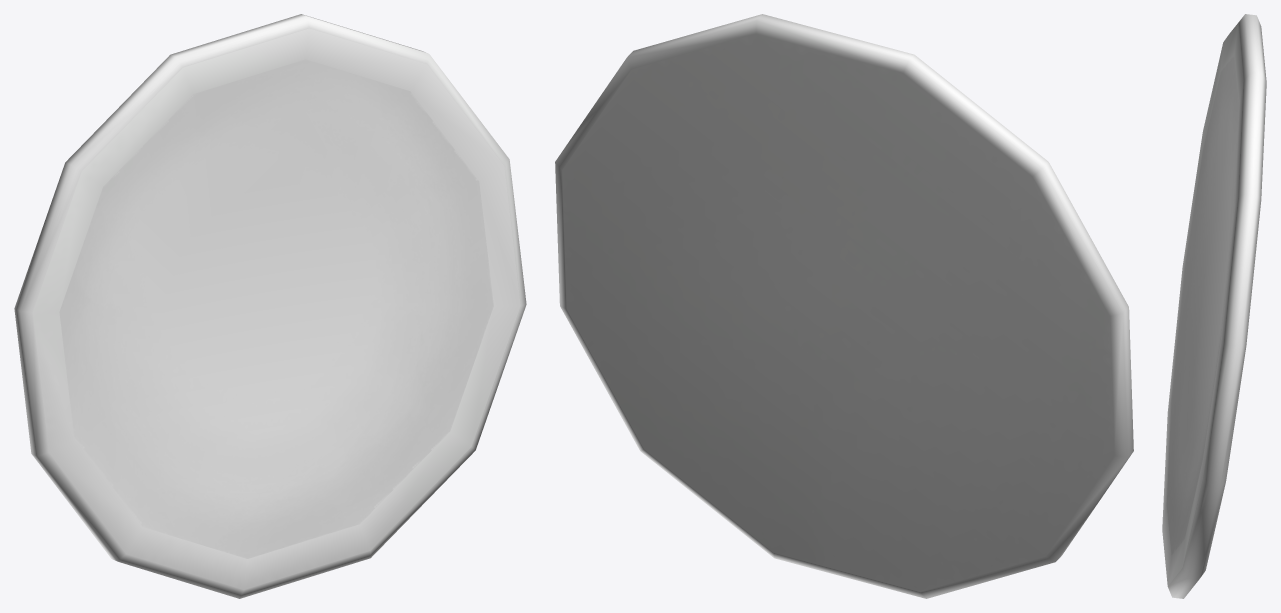
The model's file is Plate.fbx.
3 renders of one model, left to right at view 1: azimuth 30°, elevation 25°; view 2: azimuth 150°, elevation 25°; view 3: azimuth 270°, elevation 25°, orthographic. The views are drawn at different scales.
Visible parts, largest first — view 1: polySurface1; view 2: polySurface1; view 3: polySurface1.
Boxes of the visible parts, x1,y1,x2,y2 form: polySurface1: [14, 14, 526, 598]; polySurface1: [555, 14, 1133, 598]; polySurface1: [1162, 14, 1266, 598].
Bounding box in the file's own units: 3.95 × 3.91 × 0.712.
